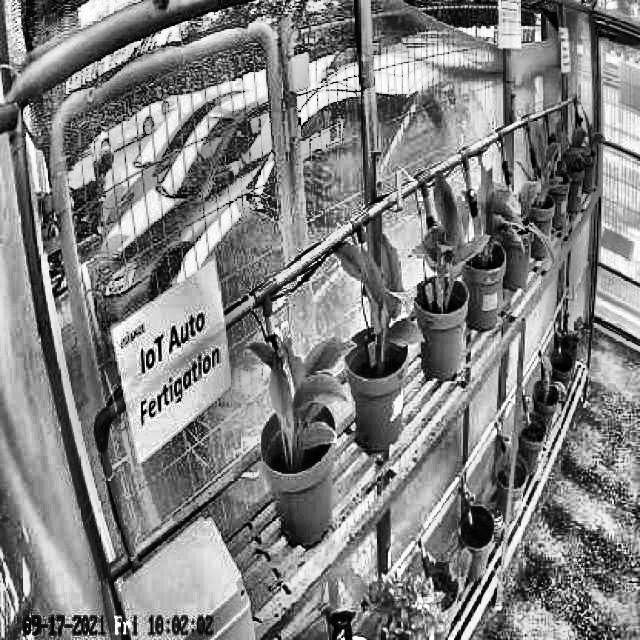plants: (246, 332, 357, 450), (334, 232, 424, 352), (411, 174, 487, 288), (469, 158, 517, 254), (530, 126, 558, 208)
